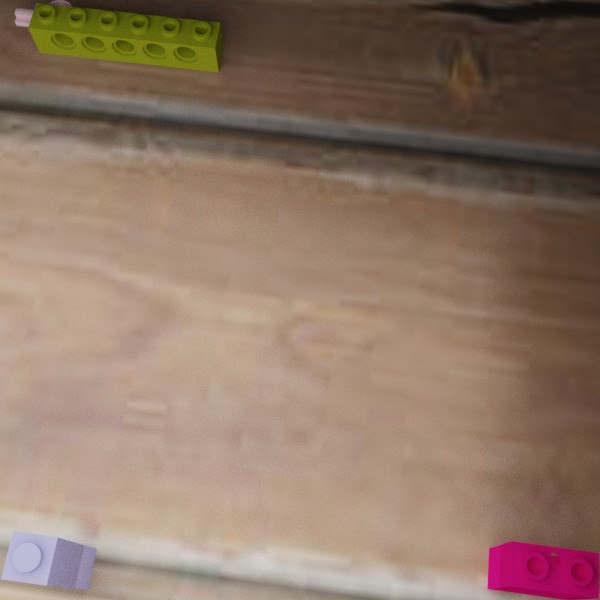lego: (28, 2, 223, 72), (487, 541, 599, 600), (0, 531, 96, 589), (14, 0, 80, 42)
